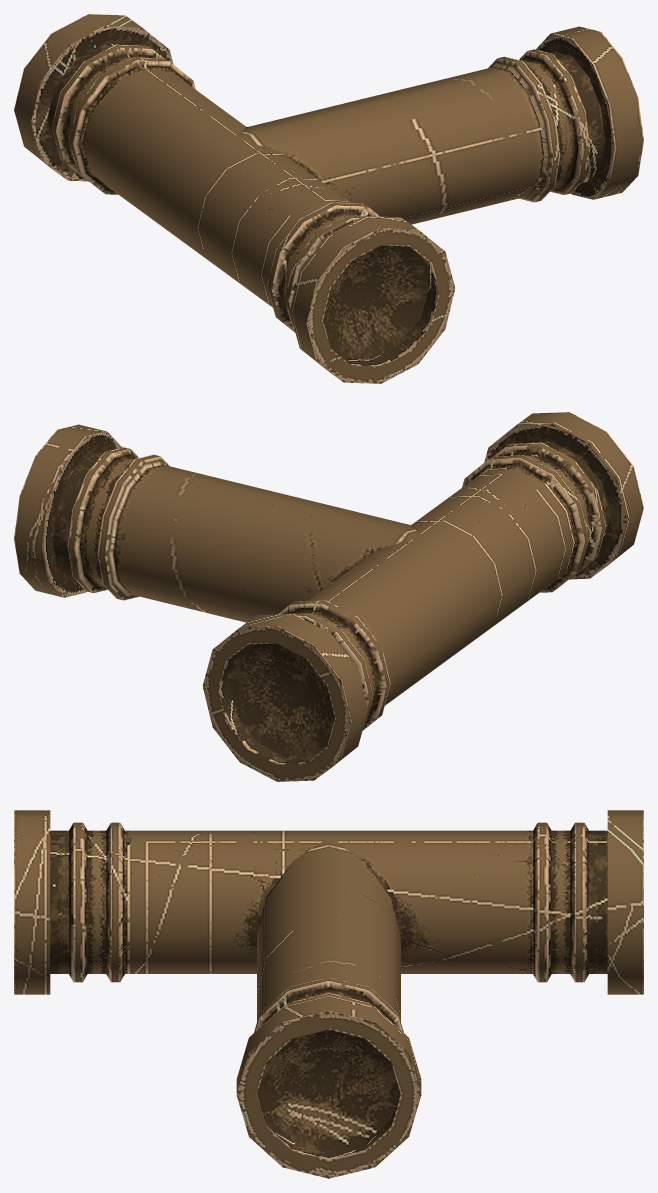
Rendered from pipe20.FBX.
The picture shows the model from 3 angles, top to bottom: view 1: azimuth 30°, elevation 25°; view 2: azimuth 150°, elevation 25°; view 3: azimuth 270°, elevation 25°; orthographic projection. The views are drawn at different scales.
Parts seen in each view (by area): view 1: pipe20; view 2: pipe20; view 3: pipe20.
Part boxes in pixels (box(x1,y1,x2,y2)): pipe20: box(14, 14, 643, 383); pipe20: box(14, 412, 643, 781); pipe20: box(14, 810, 643, 1178).
Bounding box in the file's own units: 41.65 × 14.06 × 47.89.
